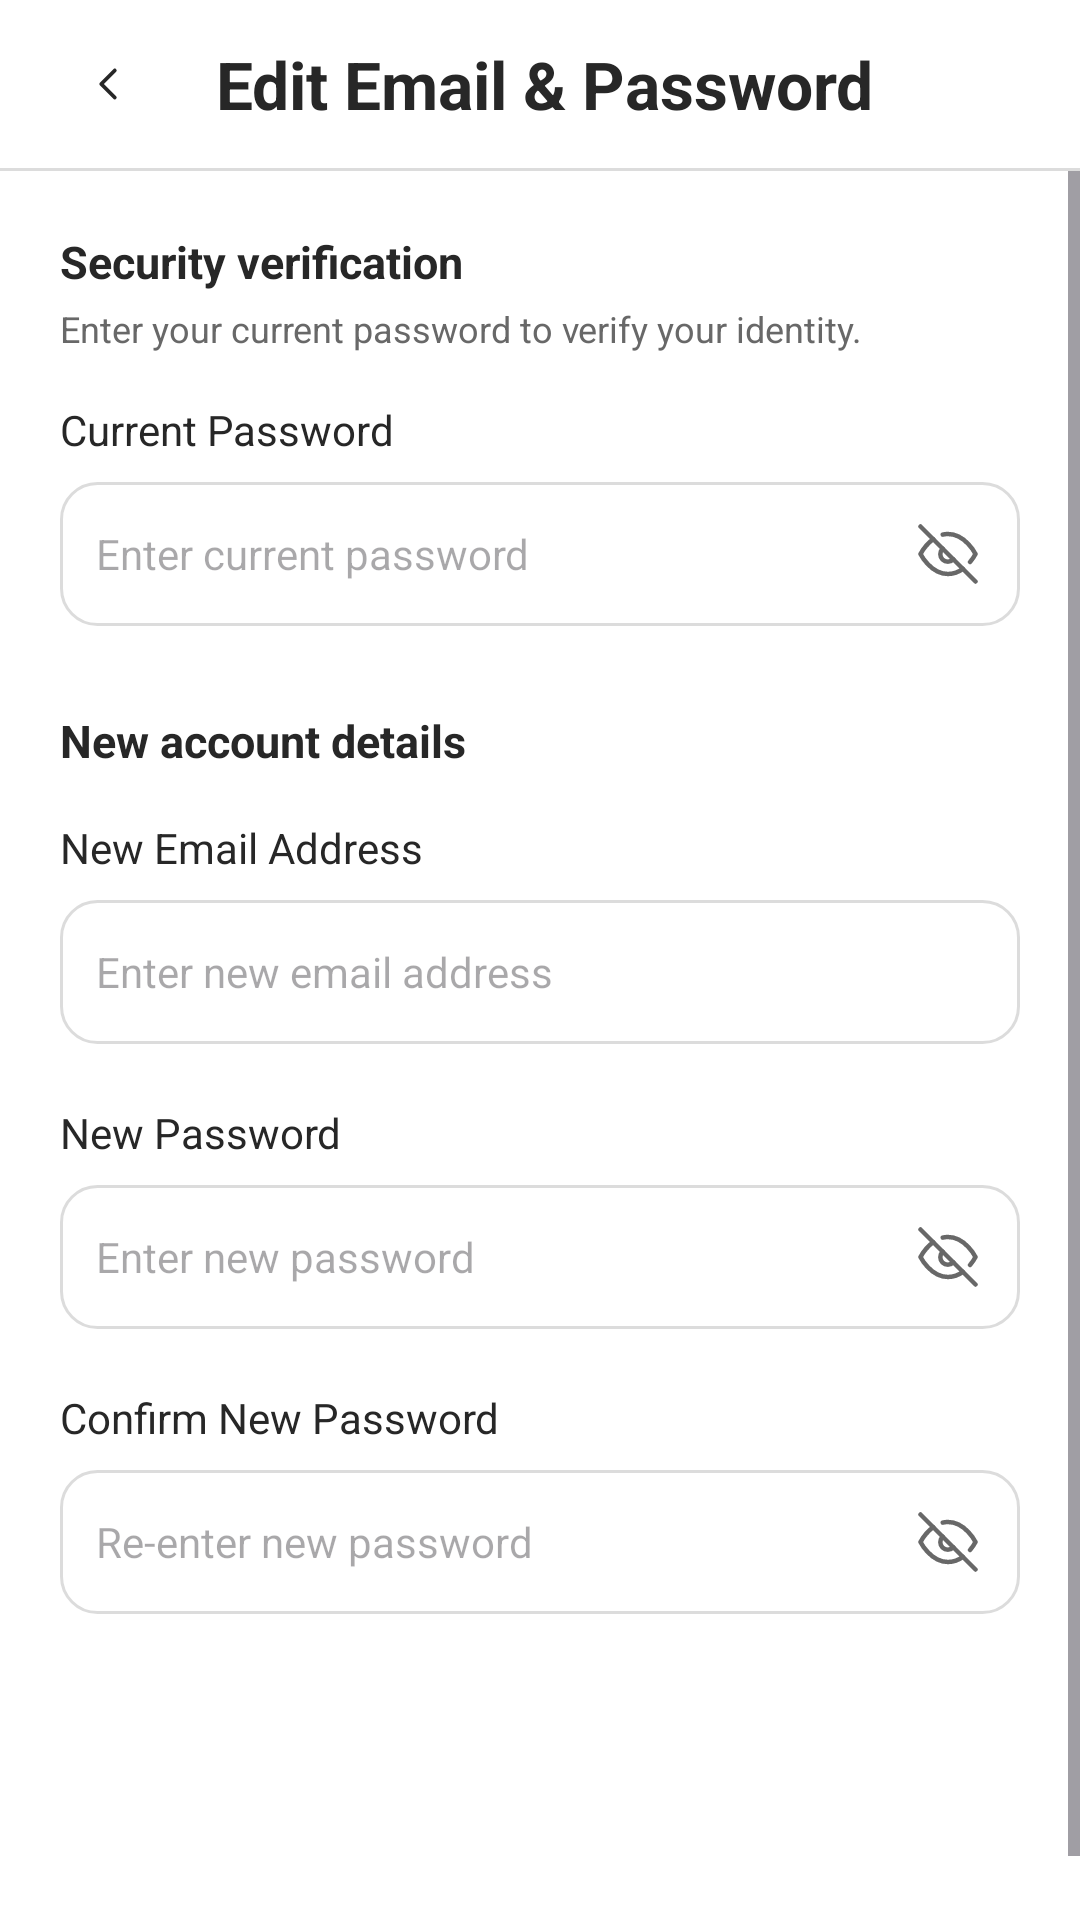

Screen size 1080x1920. Icon name, then its box in pixels as (x1, y1, x2, y2):
Back: (99, 68, 117, 100)
